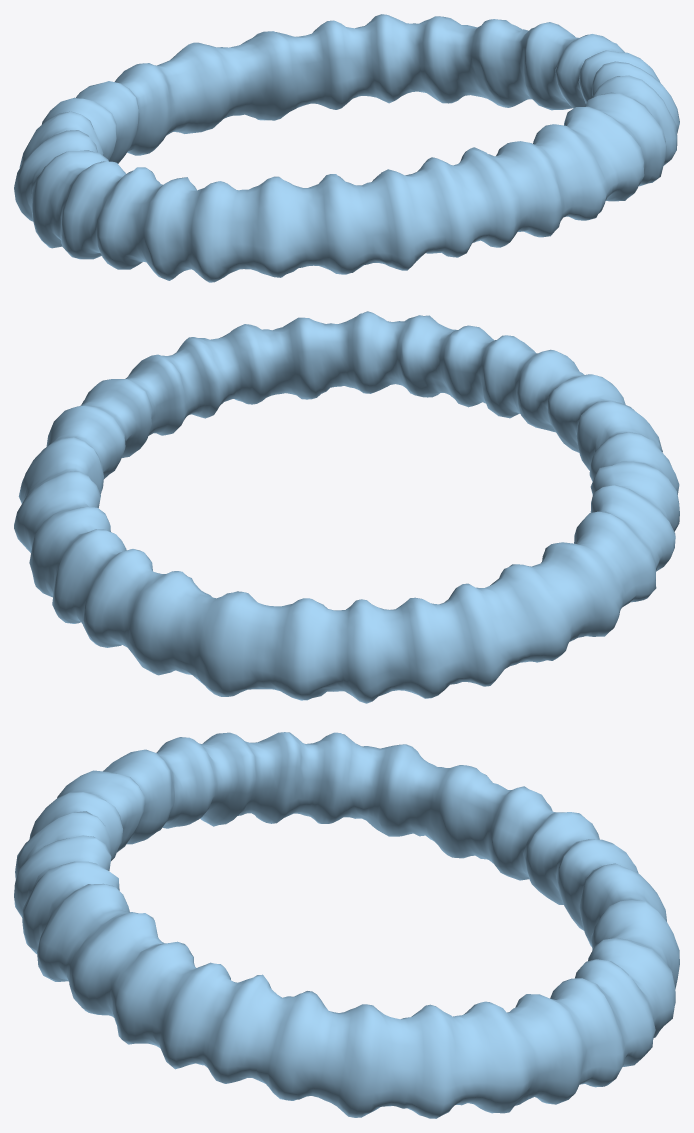
File: Headband_Blue.fbx
3 renders of one model, top to bottom at view 1: azimuth 30°, elevation 25°; view 2: azimuth 150°, elevation 25°; view 3: azimuth 270°, elevation 25°, orthographic. The views are drawn at different scales.
Parts seen in each view (by area): view 1: Headband_Blue; view 2: Headband_Blue; view 3: Headband_Blue.
Part boxes in pixels (left/top/right/bottom): Headband_Blue: left=14, top=14, right=679, bottom=282; Headband_Blue: left=14, top=311, right=679, bottom=703; Headband_Blue: left=14, top=732, right=679, bottom=1118.
Size of the model in its own units: 0.7022 by 0.1914 by 0.6328.
